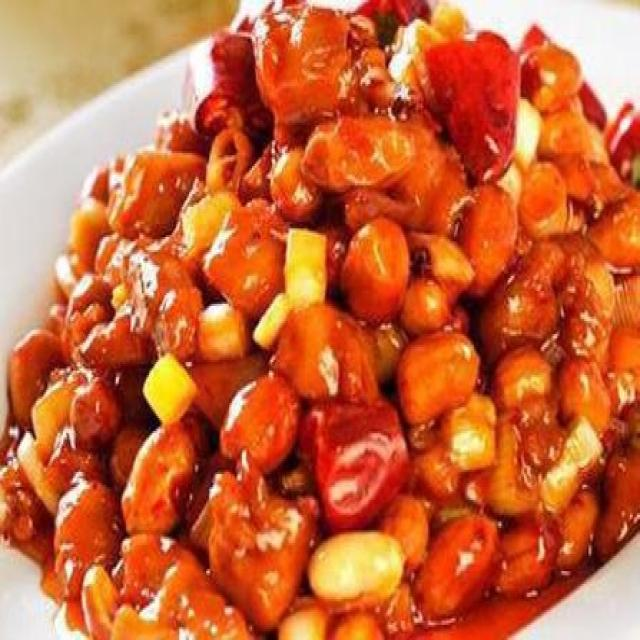鸡肉料理 含炸鸡: (17, 13, 623, 623)
